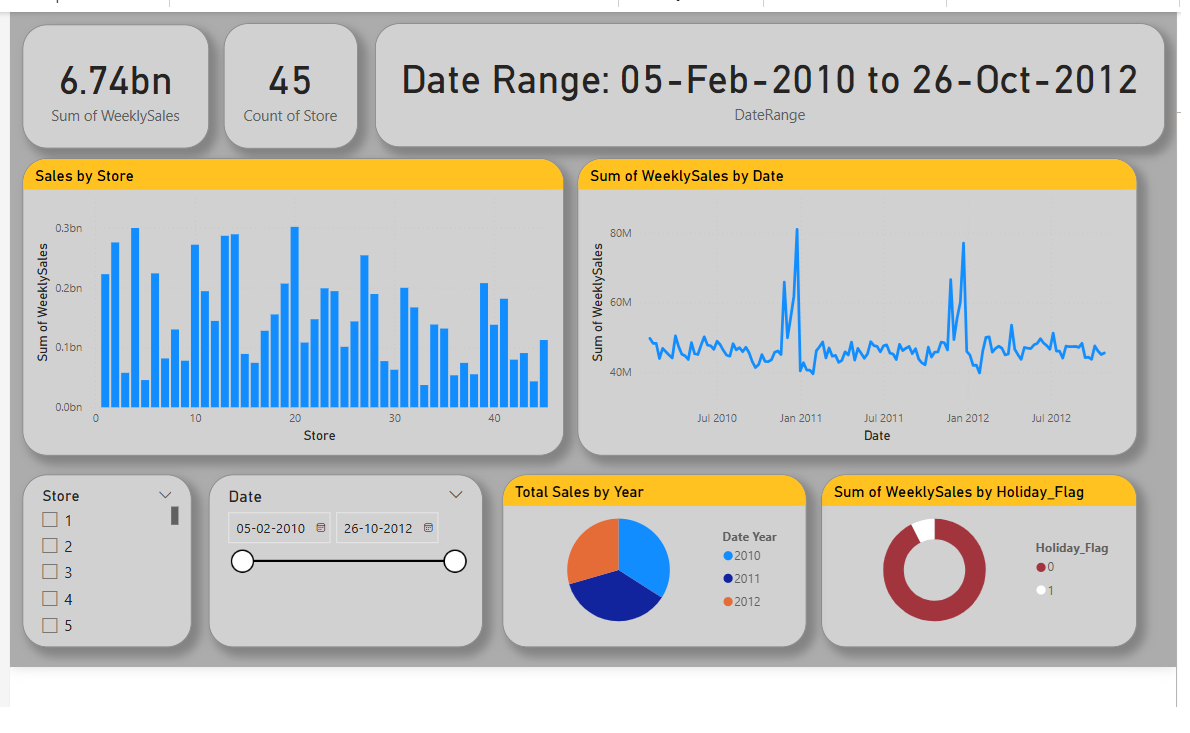

What the dashboard file says about the page in this screenshot:
{"tool":"powerbi","page":{"name":"Page 1","canvas":[1280,720],"ordinal":0},"visuals":[{"type":"card","fields":{"Values":["Sum(walmart_sales_cleaned.WeeklySales)"]},"box":[13.7,13.7,204.5,135.8],"z":0},{"type":"card","fields":{"Values":["Count(walmart_sales_cleaned.Store)"]},"box":[234.6,12.3,146.8,137.2],"z":1000},{"type":"card","fields":{"Values":["walmart_sales_cleaned.DateRange"]},"box":[400.7,12.3,867.2,135.8],"z":2000},{"type":"columnChart","title":"Sales by Store","fields":{"Category":["walmart_sales_cleaned.Store"],"Y":["Sum(walmart_sales_cleaned.WeeklySales)"]},"box":[13.7,160.5,594.2,326.6],"z":3000},{"type":"lineChart","fields":{"Category":["walmart_sales_cleaned.Date"],"Y":["Sum(walmart_sales_cleaned.WeeklySales)"]},"box":[623,160.5,614.8,326.6],"z":4000},{"type":"donutChart","fields":{"Category":["walmart_sales_cleaned.Holiday_Flag"],"Y":["Sum(walmart_sales_cleaned.WeeklySales)"]},"box":[890.9,507.4,346.4,189.6],"z":5000},{"type":"slicer","fields":{"Values":["walmart_sales_cleaned.Store"]},"box":[13.7,507.7,185.2,189.4],"z":6000},{"type":"slicer","fields":{"Values":["walmart_sales_cleaned.Date"]},"box":[218.2,507.7,300.5,189.4],"z":7000},{"type":"pieChart","fields":{"Category":["walmart_sales_cleaned.Date.Variation.Date Hierarchy.Year","walmart_sales_cleaned.Date.Variation.Date Hierarchy.Quarter","walmart_sales_cleaned.Date.Variation.Date Hierarchy.Month"],"Y":["walmart_sales_cleaned.Total Sales"]},"box":[540.2,507.4,333.5,189.6],"z":7001}]}

Visuals, with their boxes in screenshot pixels (x1, y1, x2, y2):
card - Sum(walmart_sales_cleaned.WeeklySales): locate(10, 13, 204, 142)
card - Count(walmart_sales_cleaned.Store): locate(220, 12, 359, 142)
card - walmart_sales_cleaned.DateRange: locate(378, 12, 1189, 141)
"Sales by Store" columnChart: locate(10, 153, 575, 463)
lineChart - walmart_sales_cleaned.Date x Sum(walmart_sales_cleaned.WeeklySales): locate(589, 153, 1173, 463)
donutChart - walmart_sales_cleaned.Holiday_Flag x Sum(walmart_sales_cleaned.WeeklySales): locate(844, 482, 1173, 663)
slicer - walmart_sales_cleaned.Store: locate(10, 483, 186, 663)
slicer - walmart_sales_cleaned.Date: locate(204, 483, 490, 663)
pieChart - walmart_sales_cleaned.Date.Variation.Date Hierarchy.Year x walmart_sales_cleaned.Date.Variation.Date Hierarchy.Quarter: locate(510, 482, 827, 663)
